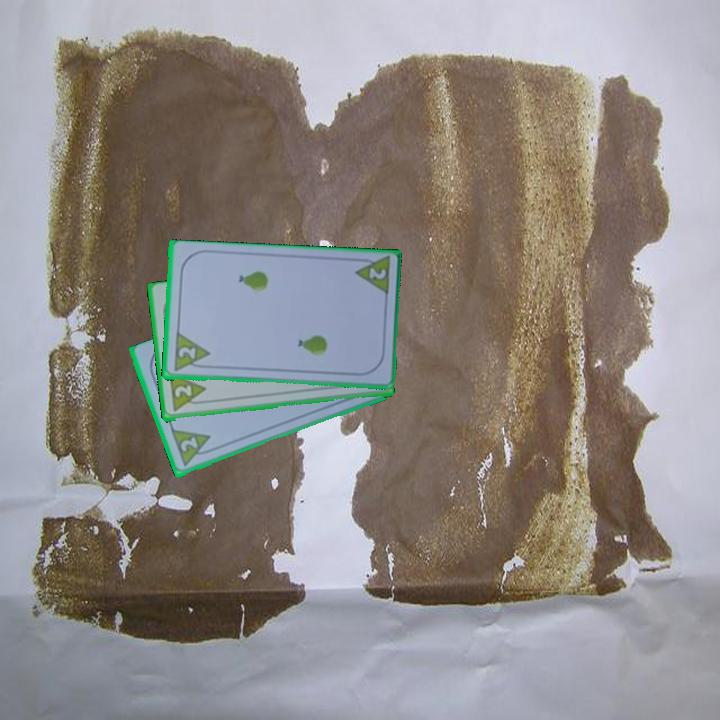2p: (350, 254, 393, 299), (166, 371, 209, 415), (170, 331, 212, 375), (176, 434, 201, 455)
